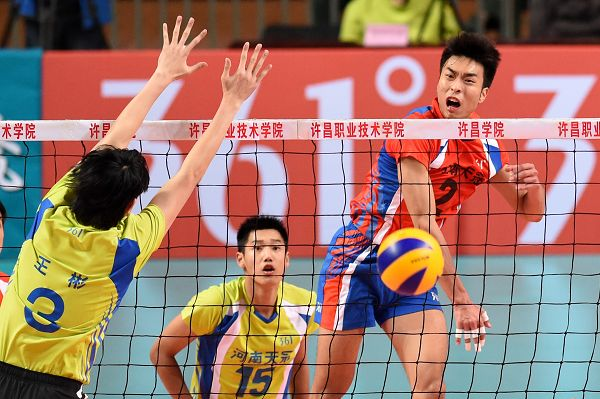ball: (377, 228, 445, 296)
